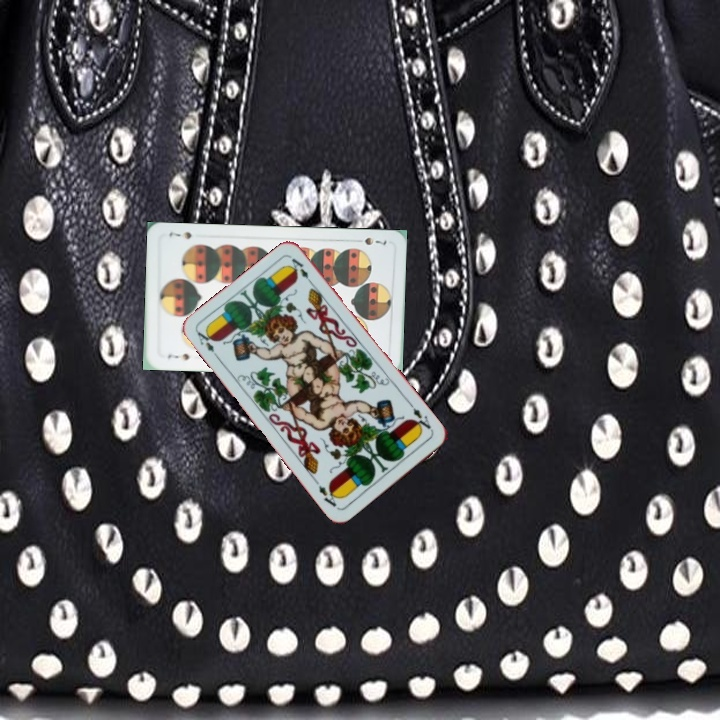EA: (406, 400, 436, 435), (193, 325, 217, 355)
S7: (360, 233, 389, 248), (163, 349, 192, 363)
